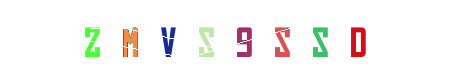9: (195, 0, 275, 80)
D: (317, 0, 397, 80)
M: (128, 0, 208, 80)
S: (182, 0, 262, 80), (205, 0, 285, 80), (236, 0, 316, 80)
V: (173, 0, 253, 80)
Z: (52, 0, 132, 80)
